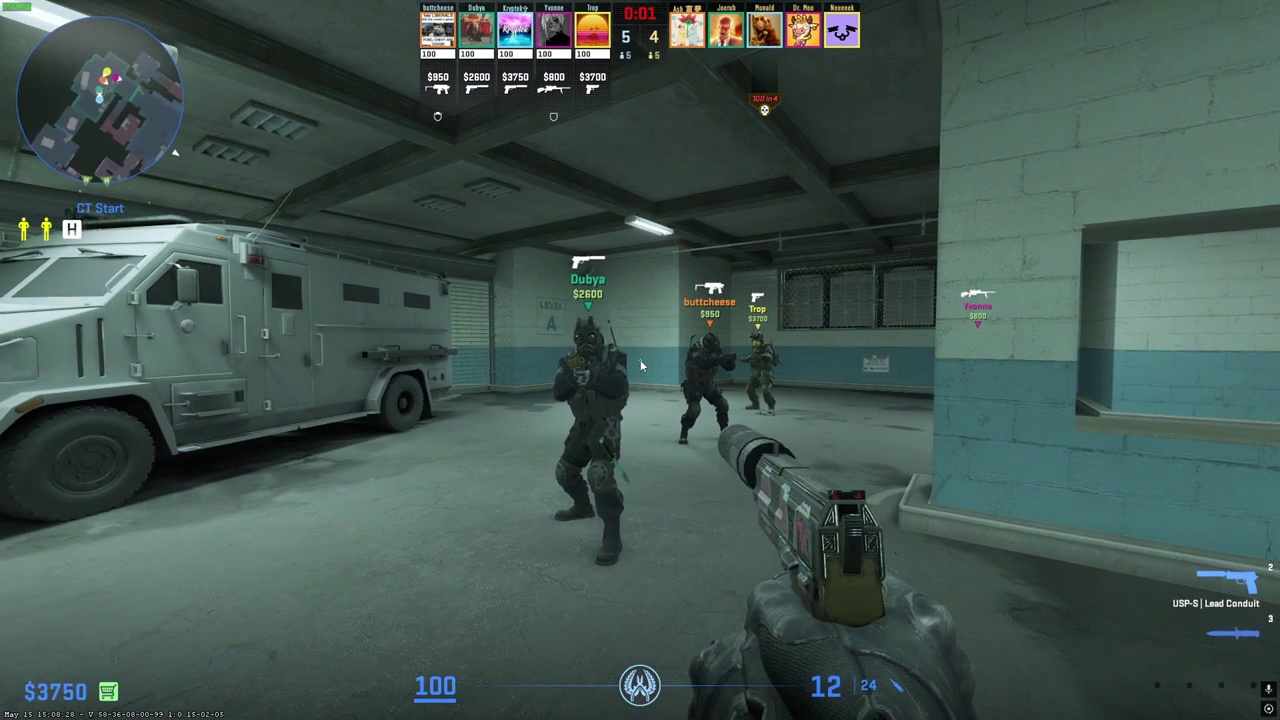CT: (552, 315, 630, 563), (679, 332, 731, 444), (745, 332, 777, 414)
